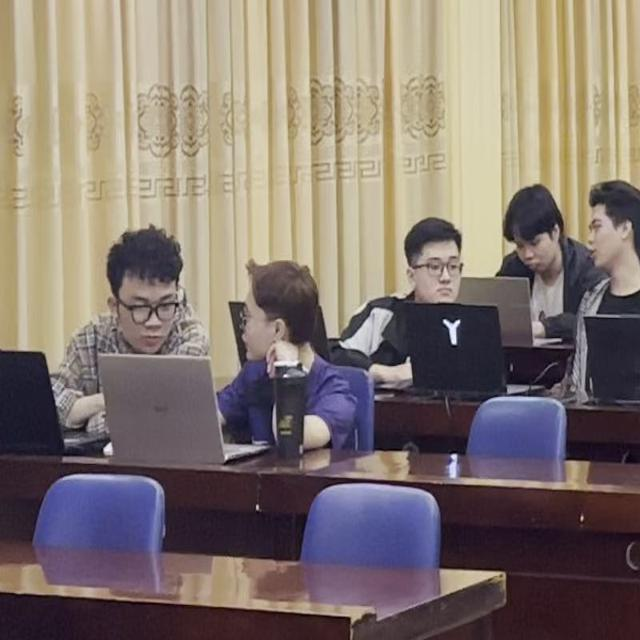Looking away: (112, 237, 192, 355), (404, 207, 474, 319), (234, 264, 303, 368), (494, 180, 558, 282), (581, 184, 639, 278)
